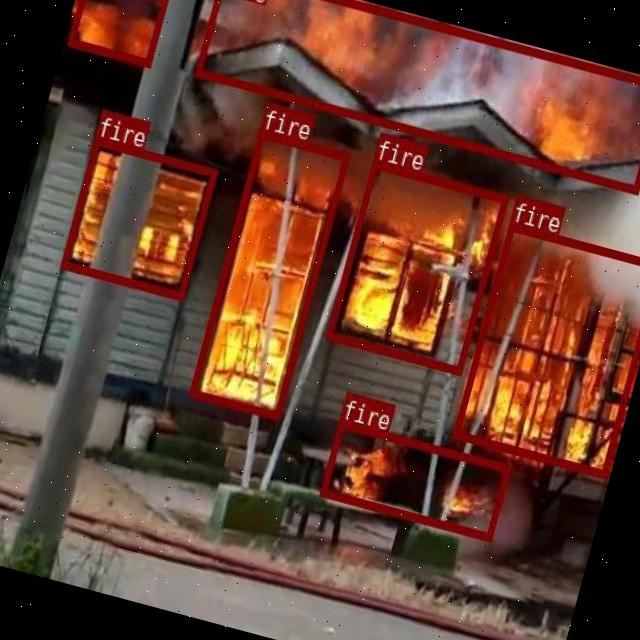fire: (193, 0, 640, 191), (452, 220, 640, 475), (187, 128, 348, 420), (324, 158, 508, 373), (60, 136, 216, 298), (319, 418, 510, 540), (67, 0, 167, 64)
